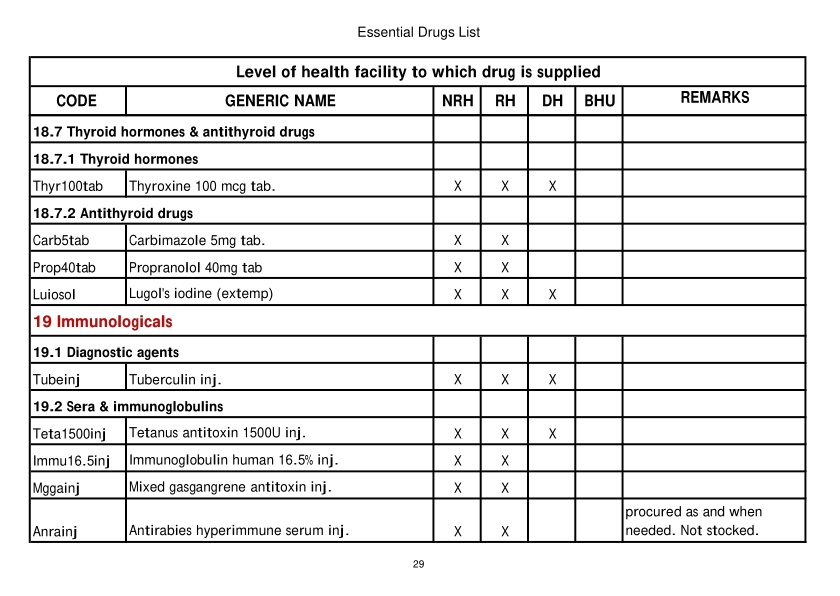merged_cells: (28, 55, 807, 544)
